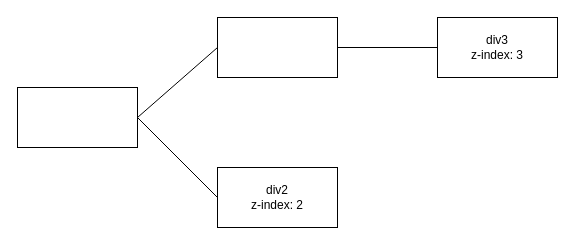
Some shapes in this 575 by 245 pixel diagram are drawn without their labels. Each missing label, with the centre of its shape:
"div1 z-index: 1" goes at [277,47].
"html" goes at [77,117].
